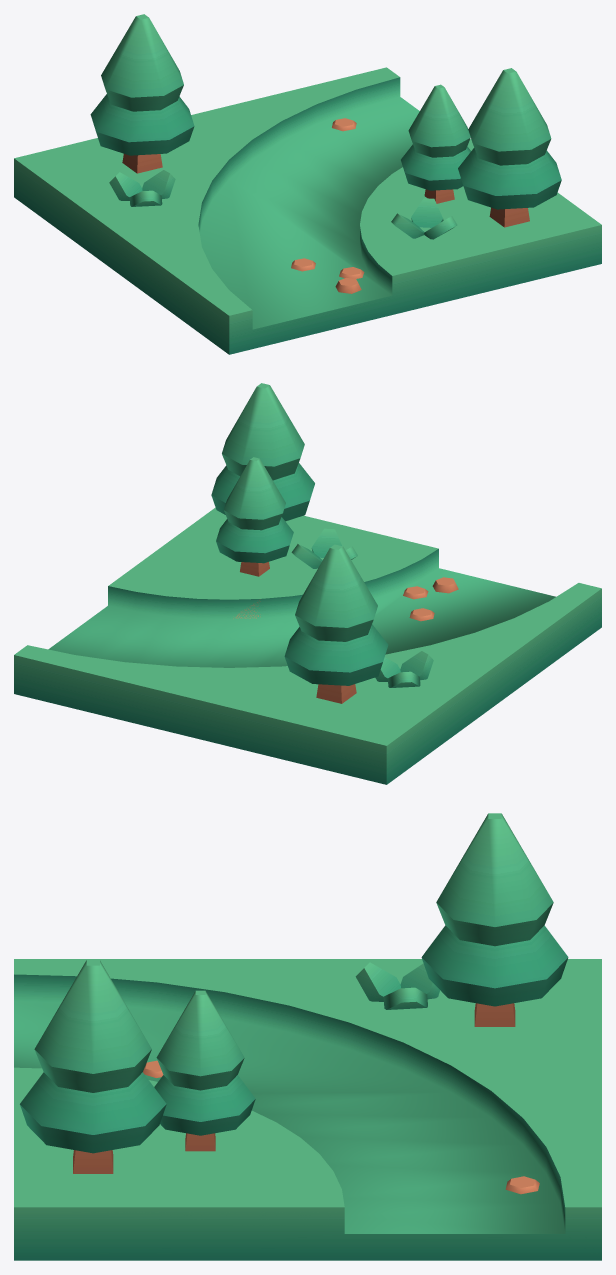
File: kenney-tower-defense-tile-corner-large.glb
3 renders of one model, top to bottom at view 1: azimuth 30°, elevation 25°; view 2: azimuth 150°, elevation 25°; view 3: azimuth 270°, elevation 25°, orthographic. The views are drawn at different scales.
Visible parts, largest first — view 1: tile-corner-large; view 2: tile-corner-large; view 3: tile-corner-large.
Boxes of the visible parts, x1,y1,x2,y2 form: tile-corner-large: [14, 14, 601, 354]; tile-corner-large: [14, 383, 601, 784]; tile-corner-large: [14, 813, 601, 1260].
Bounding box in the file's own units: 2 × 0.9601 × 2.
Materials: 1 (1 with a texture image).
